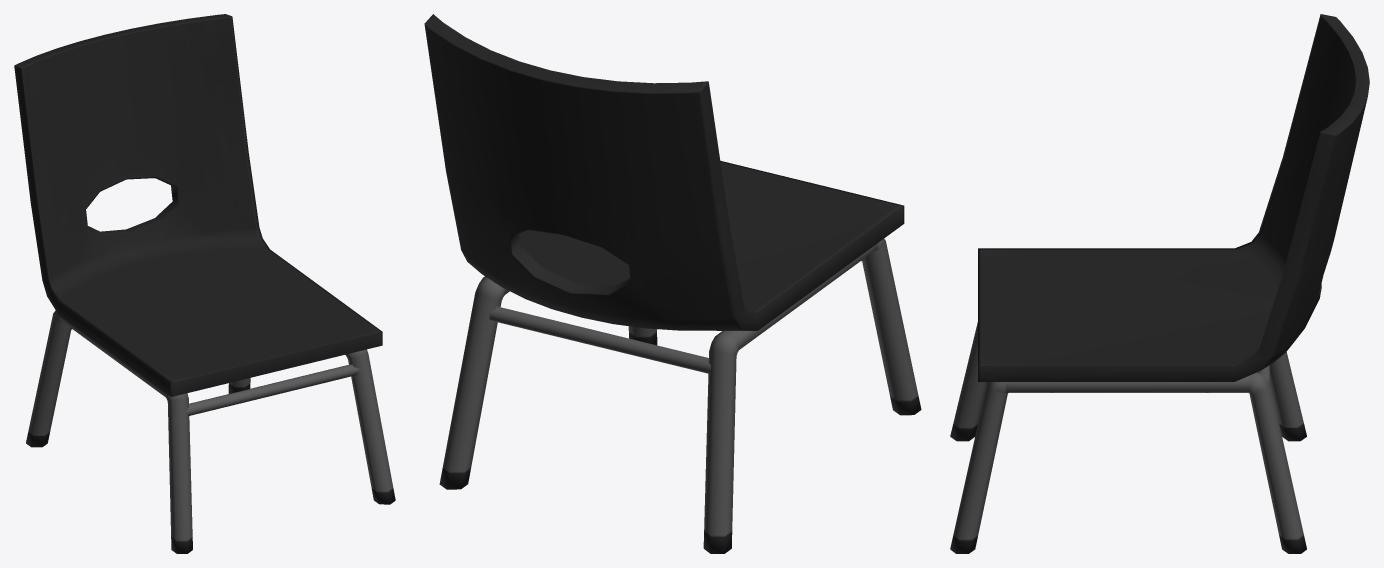
The model's file is a_sch_2_class1_obj_chair01.gltf.
3 views of the same model, side by side, from view 1: azimuth 30°, elevation 25°; view 2: azimuth 150°, elevation 25°; view 3: azimuth 270°, elevation 25° (orthographic). The views are drawn at different scales.
Parts seen in each view (by area): view 1: a_sch_2_class1_obj_chair01_mesh_shape:a_sch_2_class1_obj_cha; view 2: a_sch_2_class1_obj_chair01_mesh_shape:a_sch_2_class1_obj_cha; view 3: a_sch_2_class1_obj_chair01_mesh_shape:a_sch_2_class1_obj_cha.
Part boxes in pixels (box(x1,y1,x2,y2)): a_sch_2_class1_obj_chair01_mesh_shape:a_sch_2_class1_obj_cha: box(14, 14, 395, 553); a_sch_2_class1_obj_chair01_mesh_shape:a_sch_2_class1_obj_cha: box(424, 14, 921, 553); a_sch_2_class1_obj_chair01_mesh_shape:a_sch_2_class1_obj_cha: box(950, 14, 1369, 553).
Bounding box in the file's own units: 0.4922 × 0.7916 × 0.7166.
1 material, 1 textured.
